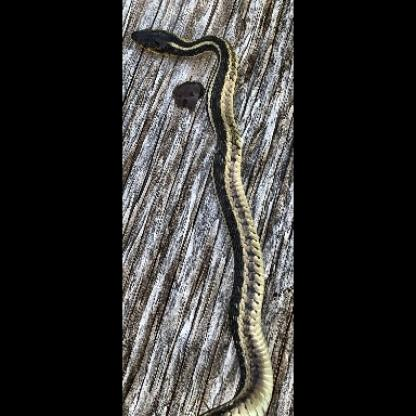Snake: (128, 23, 272, 416)
